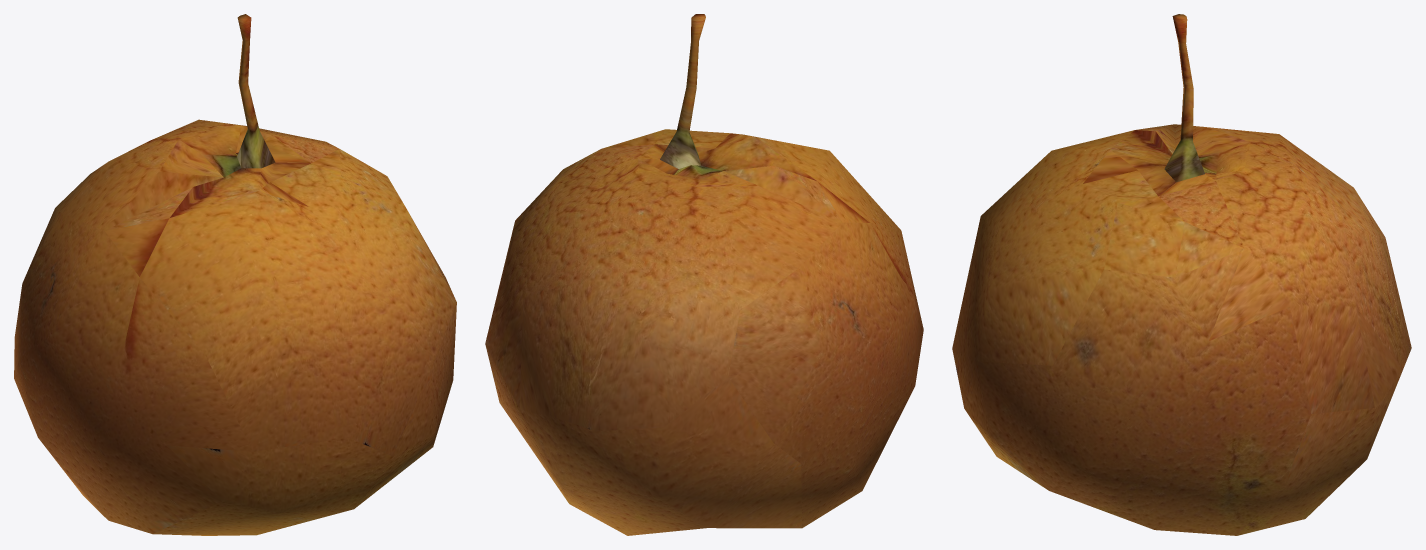
3 renders of one model, left to right at view 1: azimuth 30°, elevation 25°; view 2: azimuth 150°, elevation 25°; view 3: azimuth 270°, elevation 25°, orthographic.
Parts seen in each view (by area): view 1: 58_orange; view 2: 58_orange; view 3: 58_orange.
Boxes of the visible parts, x1,y1,x2,y2 form: 58_orange: (14,14,456,535); 58_orange: (485,14,923,535); 58_orange: (952,14,1411,535).
Bounding box in the file's own units: 97.16 × 120 × 101.
